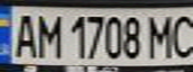0: (103, 12, 124, 61)
1: (63, 11, 87, 58)
7: (84, 12, 106, 60)
8: (121, 12, 148, 60)
A: (9, 10, 39, 58)
C: (169, 11, 193, 60)
M: (145, 11, 178, 60), (33, 10, 63, 58)
